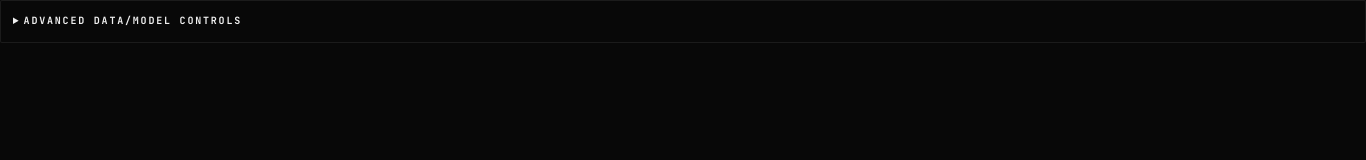
Test: AdvancedDataModelControls › renders collapsed by default and expands to reveal children
Later steps or results of the test are not shown.
Click the heading "Advanced data/model controls" at (133, 20), box [24,14,242,27]
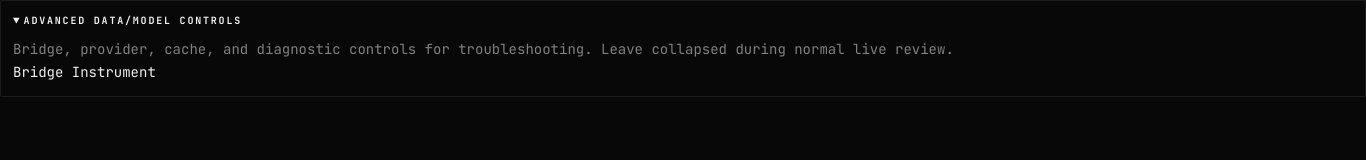
Check: the text "Bridge Instrument" is shown, box [13,63,156,81]
